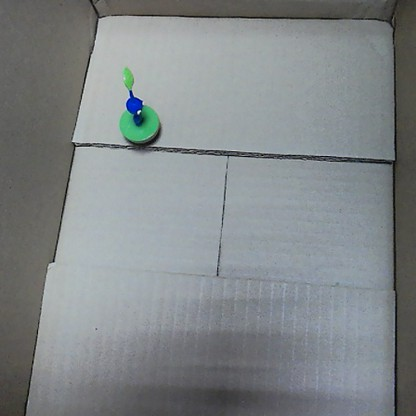leafairy: (117, 62, 160, 144)
